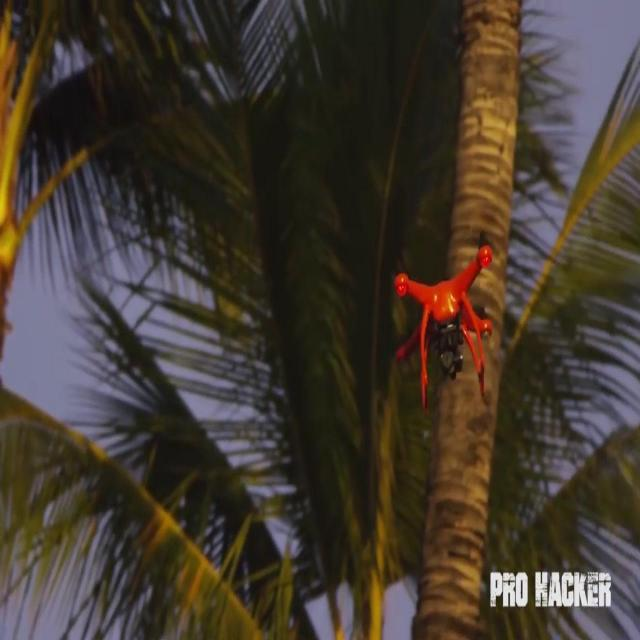UAV: (394, 229, 492, 412)
